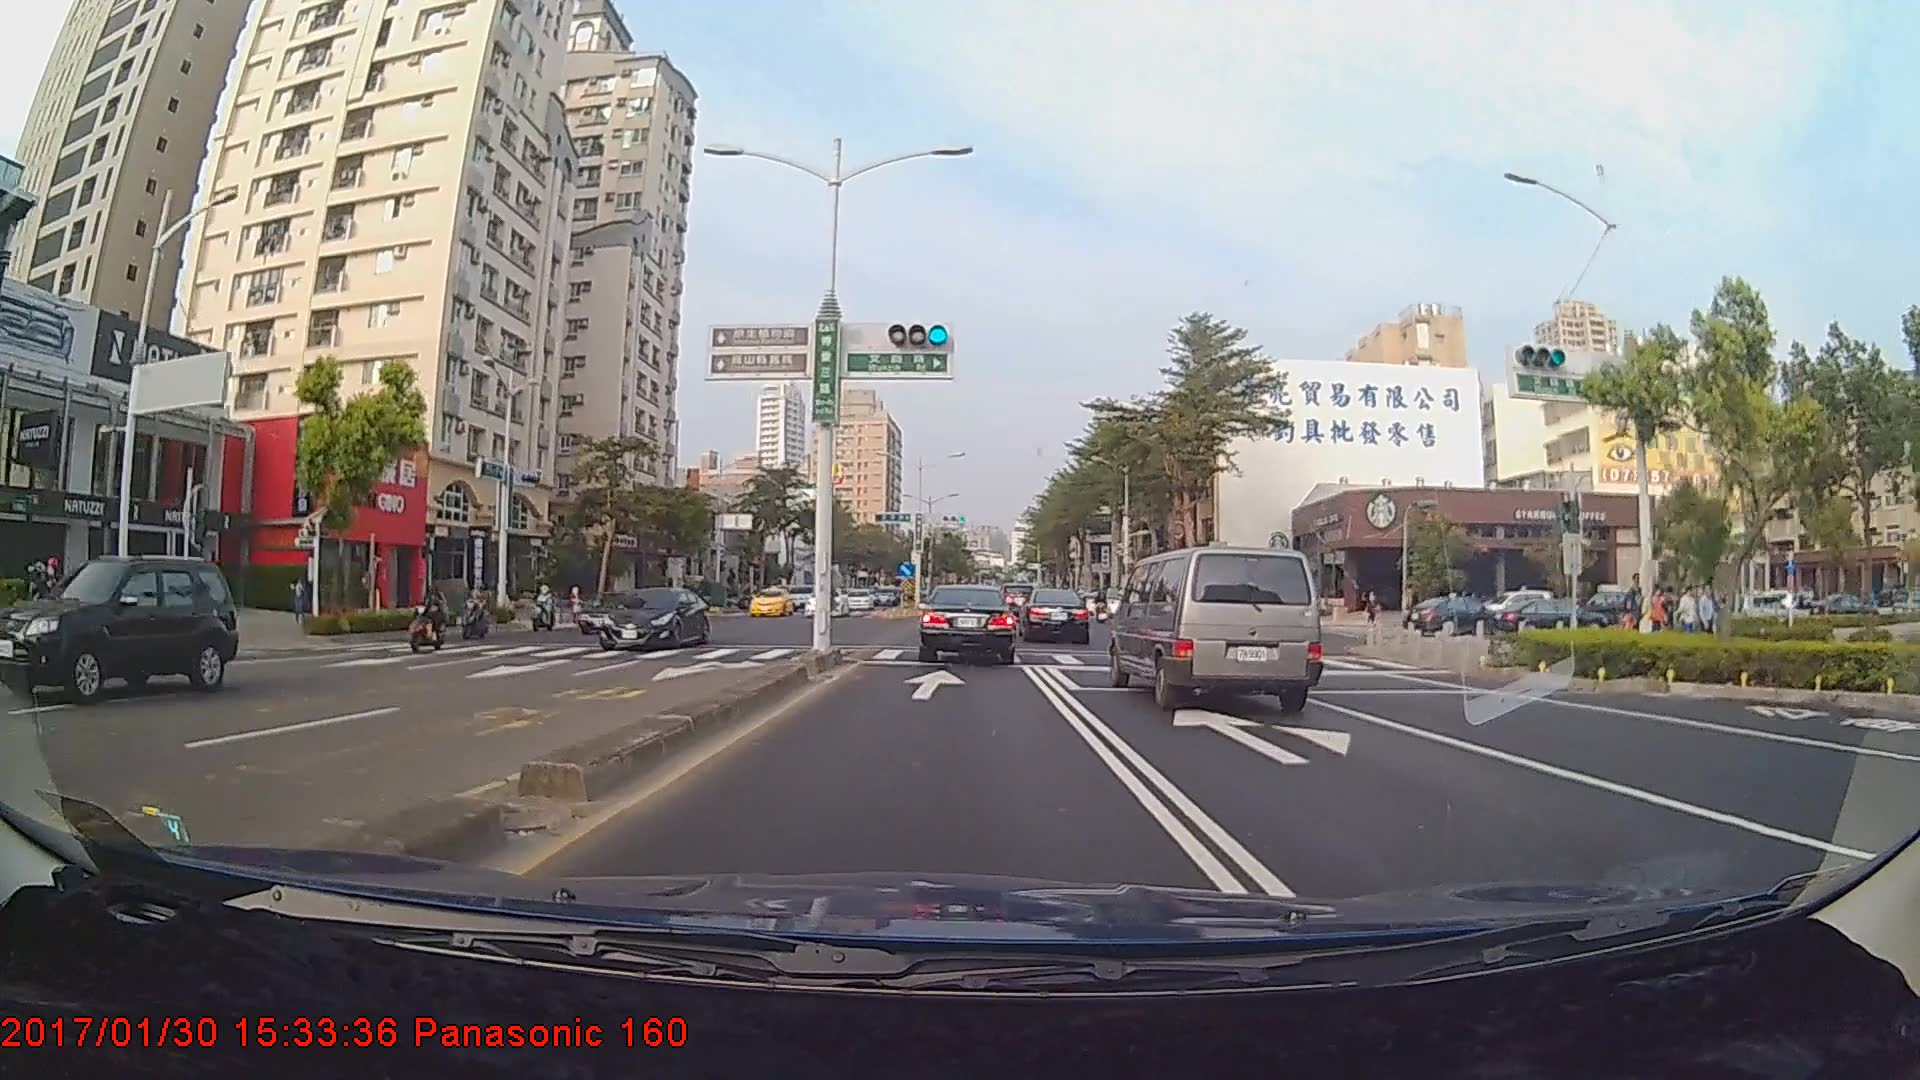pedestrian: (1695, 584, 1719, 649), (1624, 572, 1646, 645), (1649, 586, 1669, 643), (1679, 585, 1699, 646)
rider: (15, 555, 80, 681), (399, 577, 453, 658)
vehicle: (0, 552, 240, 707), (1114, 542, 1327, 712), (916, 584, 1016, 661), (598, 586, 710, 651), (1403, 594, 1496, 638), (576, 585, 664, 631), (1018, 588, 1091, 643), (801, 582, 852, 615), (746, 586, 794, 617), (842, 589, 873, 613)
